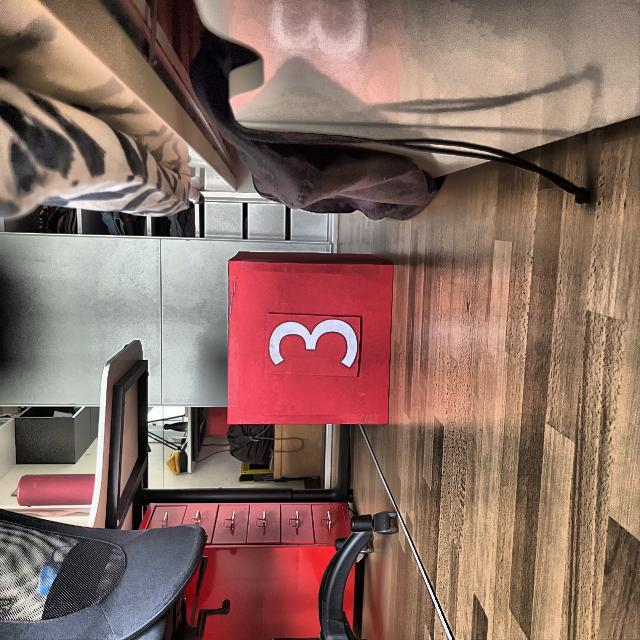red box: (228, 248, 396, 428)
three: (267, 316, 358, 370)
